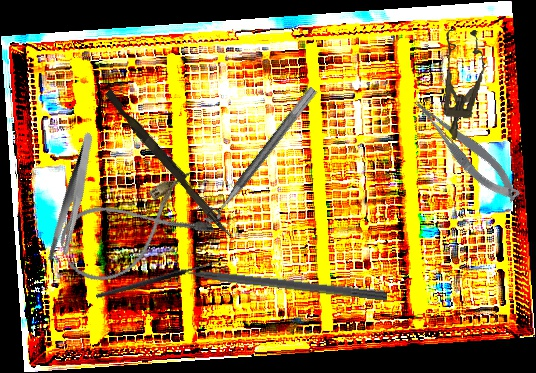Cannula: (52, 168, 217, 292)
Dressing Forceps: (21, 131, 125, 267)
Fixation Ring: (193, 77, 319, 227)
Hook Surgical: (93, 252, 224, 300)
Micro Scissor: (408, 86, 525, 212)
Pusher: (100, 89, 239, 240), (159, 261, 388, 302)
Speculum: (432, 26, 489, 143)
